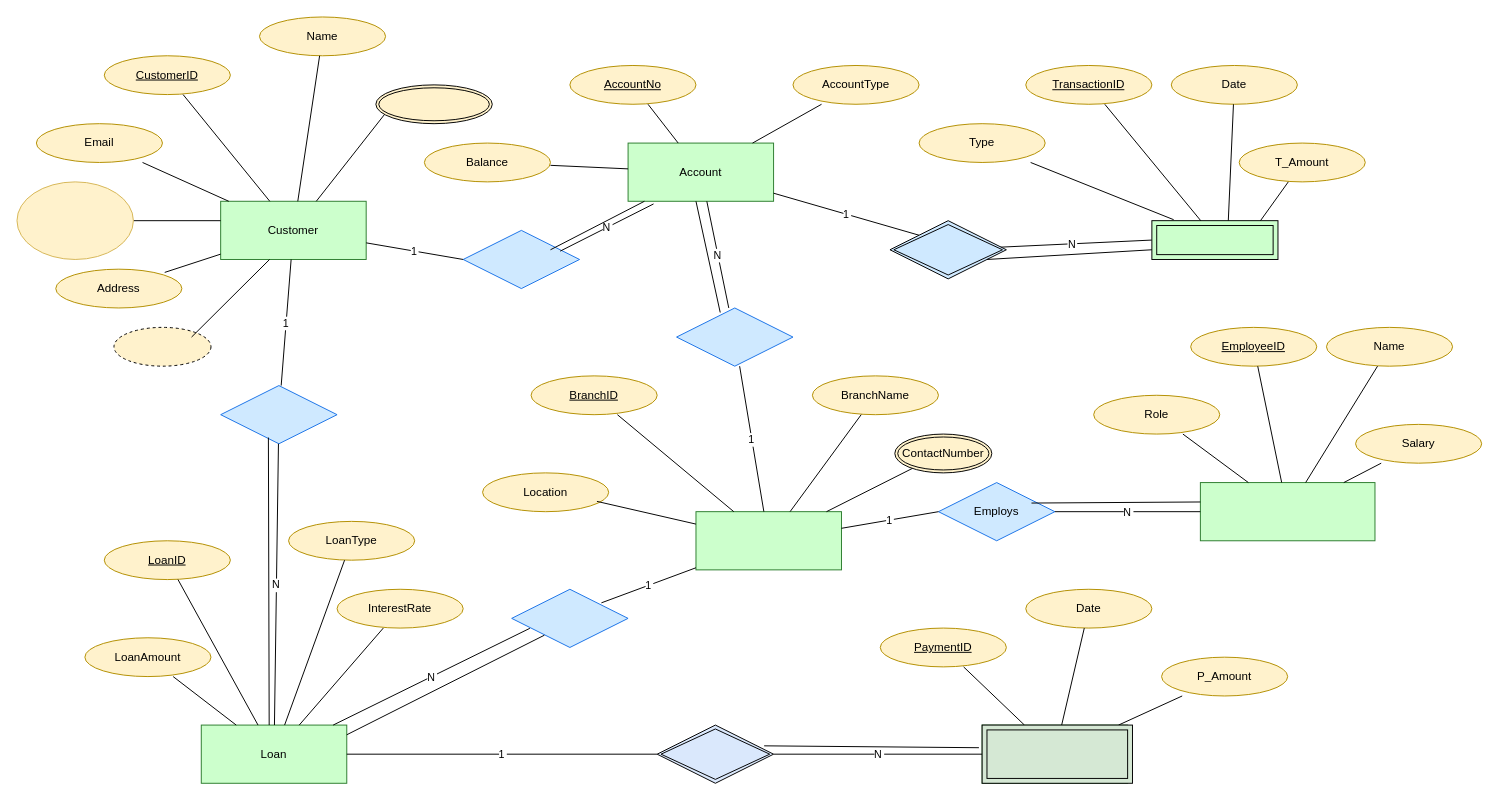
Image size: 1499x800. Some labels were removed from this diagram. Each missing label, with the centre of its shape:
"Age" goes at point (162, 346).
"Branch" goes at point (768, 540).
"DOB" goes at point (74, 220).
"Employee" goes at point (1287, 511).
"Has" goes at point (947, 249).
"Issues" goes at point (569, 617).
"Manages" goes at point (734, 336).
"Owns" goes at point (521, 259).
"Payments" goes at point (1056, 753).
"Phone" goes at point (433, 104).
"RepaidBy" goes at point (715, 753).
"Takes" goes at point (278, 414).
"Transaction" goes at point (1214, 239).
